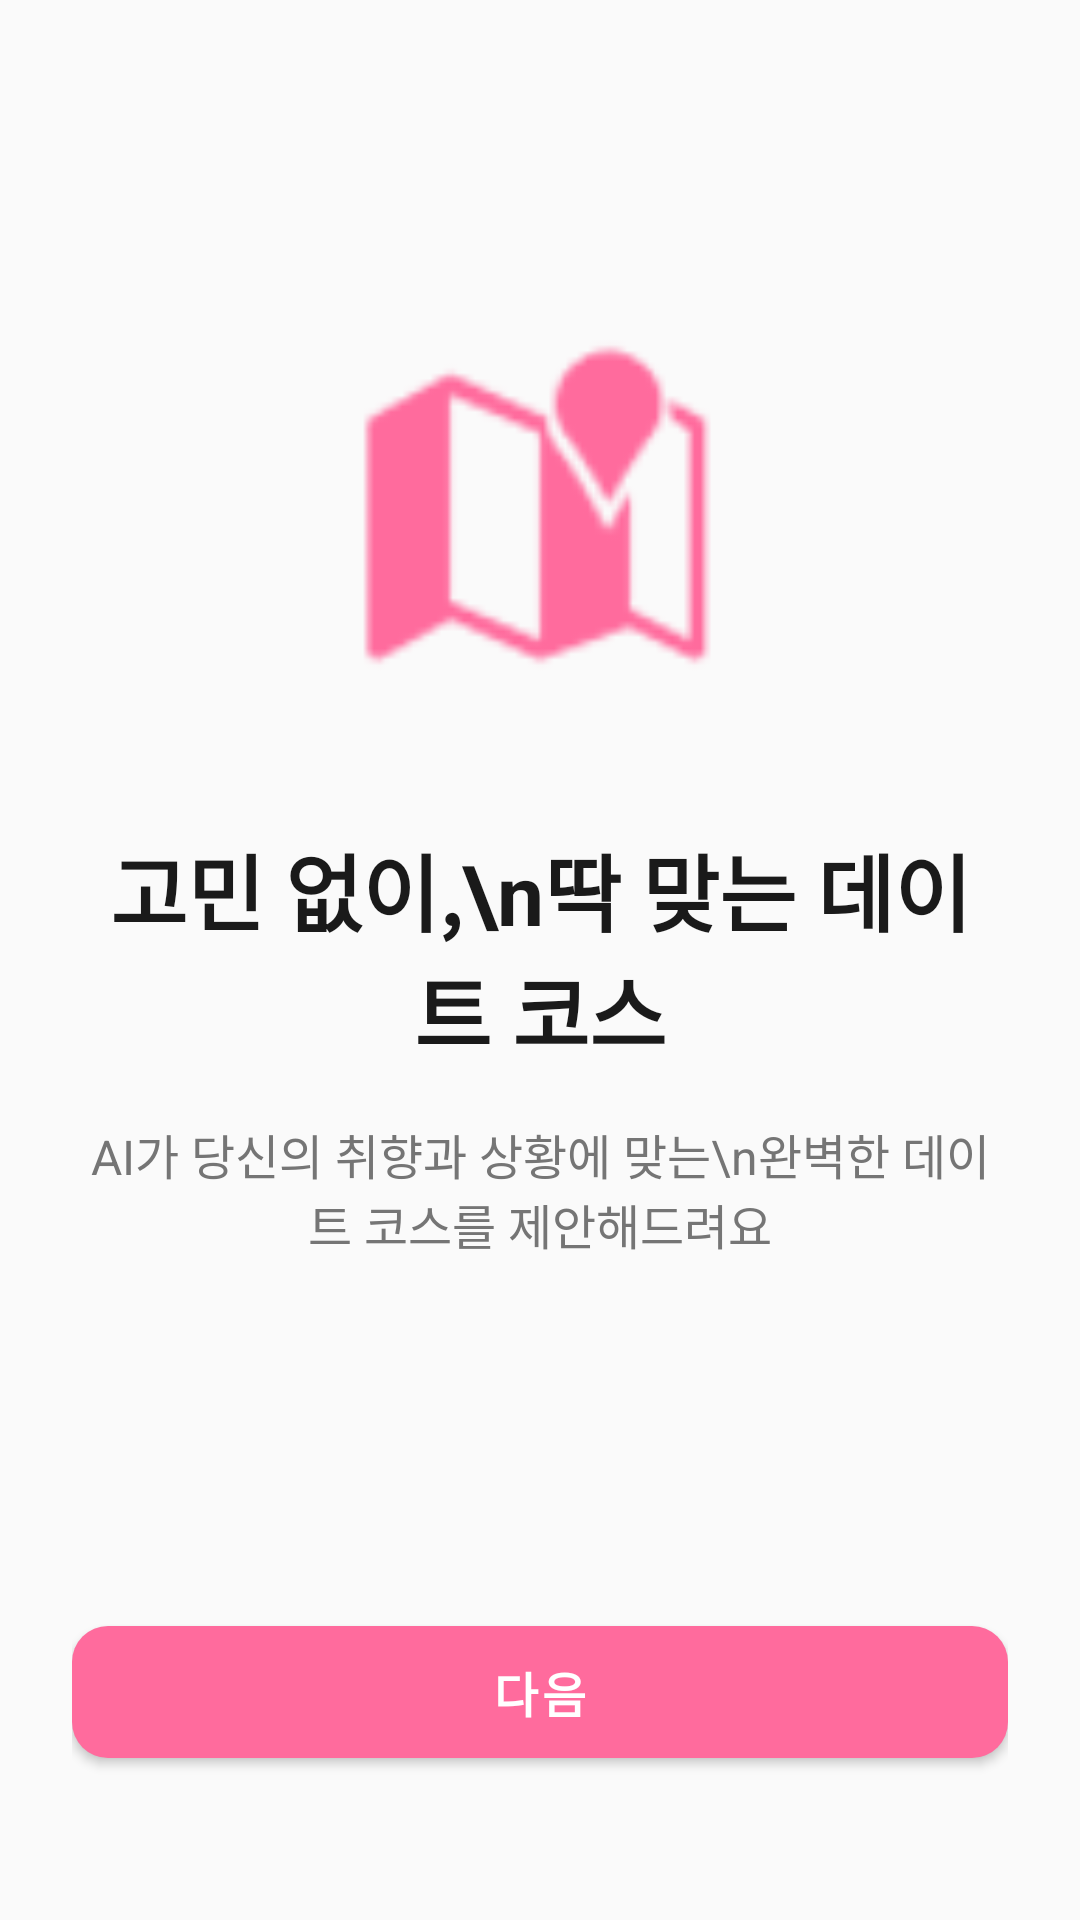

Named icons in this screenshot (1080x1920) and their centers, [x,y]:
map: [536,505]
